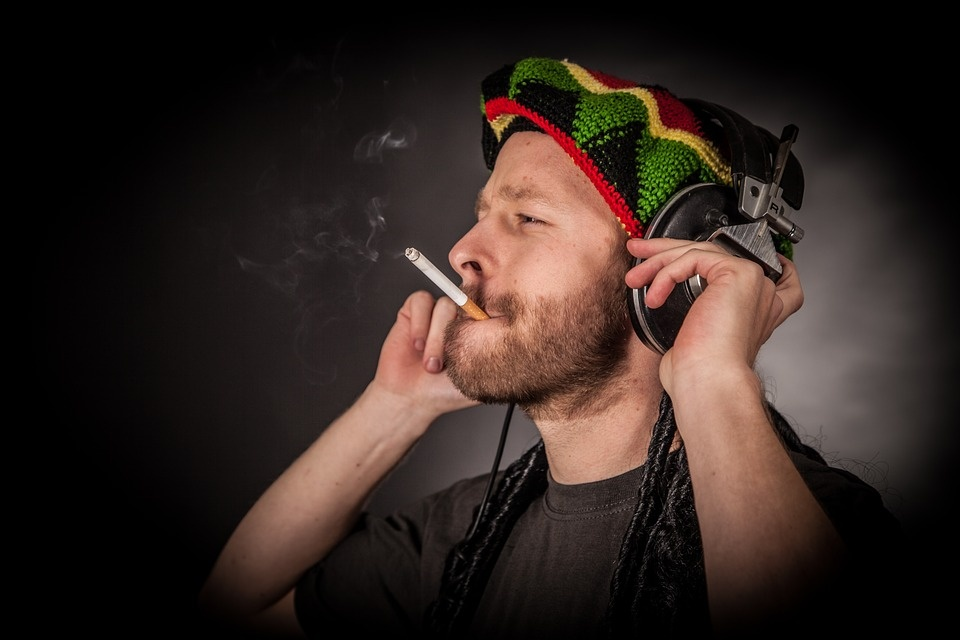sigaretta: (409, 248, 499, 323)
